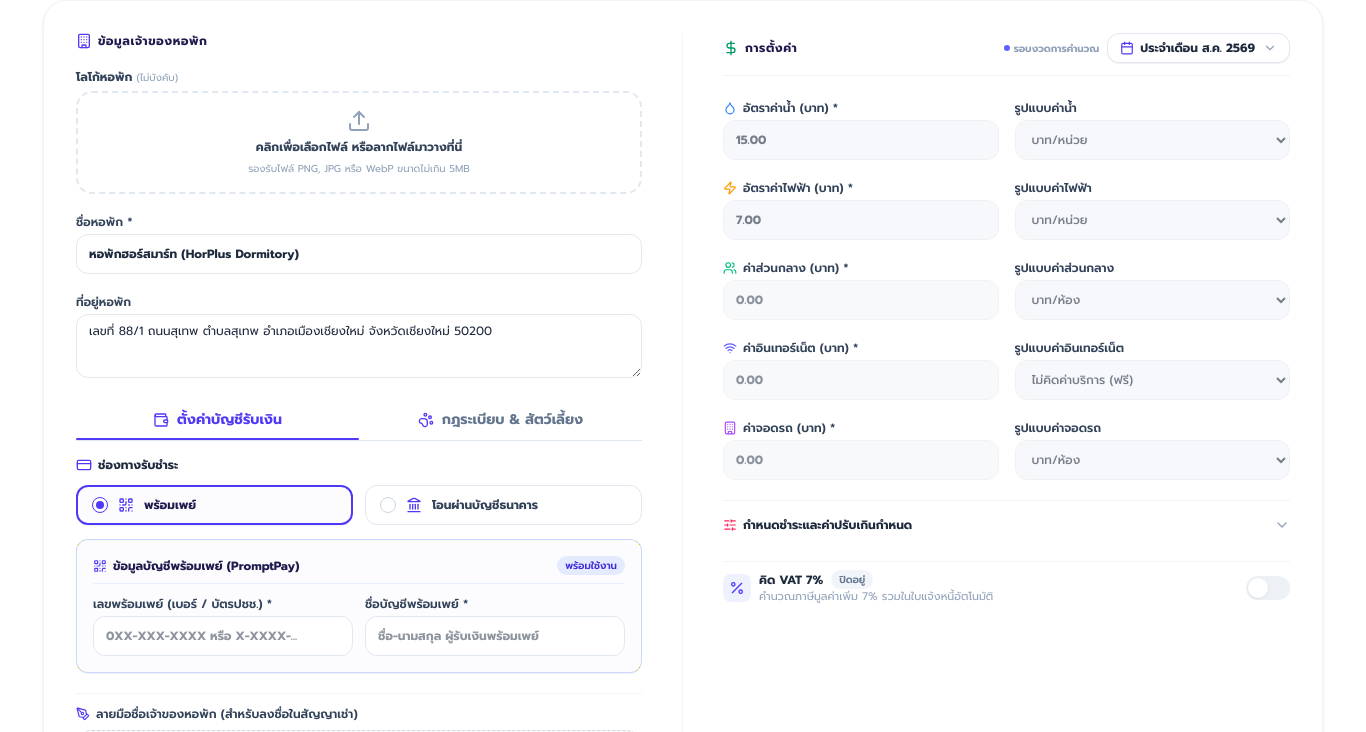
OWNER R3.9-D.1.7: Save-Status Context Isolation & Stale Lifecycle Closure Suite › 6. Loading-Edit Hydration Safety & Authority Readiness › Scalar edit before authority load does NOT block incoming authoritative snapshot hydration
This screenshot has width=1366, height=732.
Replace the text in the field with test id "input-water-unit-rate" with "99.00": (861, 140) [723,120,998,160]
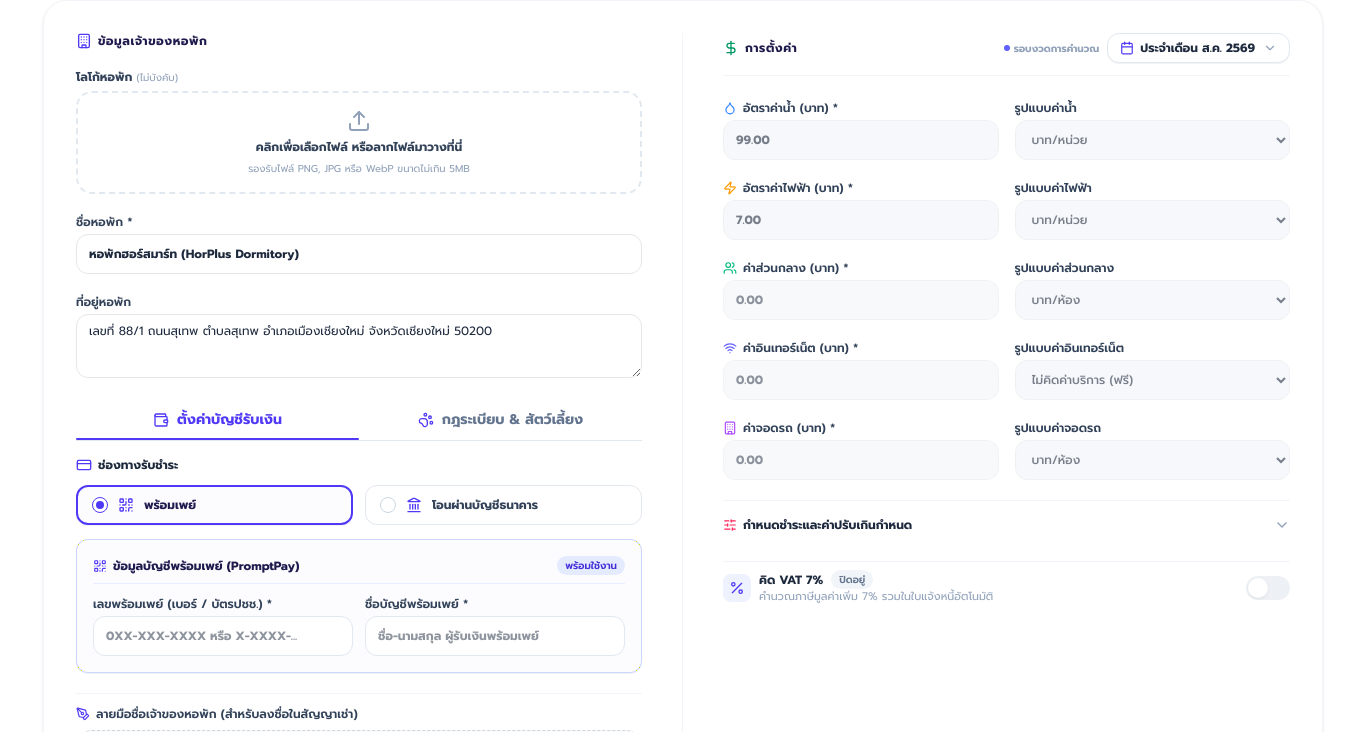
Leave the field with test id "input-water-unit-rate", box [723,120,998,160]
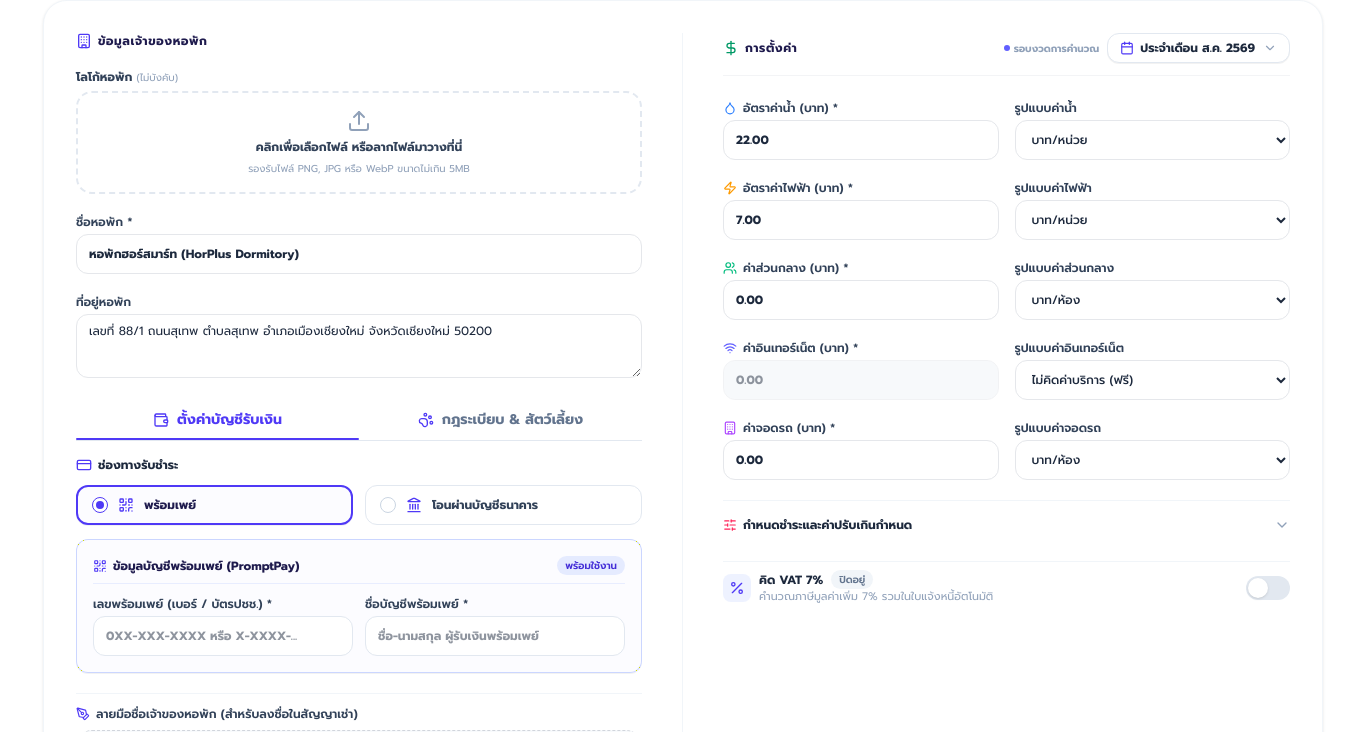
Expected: the field with test id "input-water-unit-rate" holds "22.00", [723,120,998,160]
